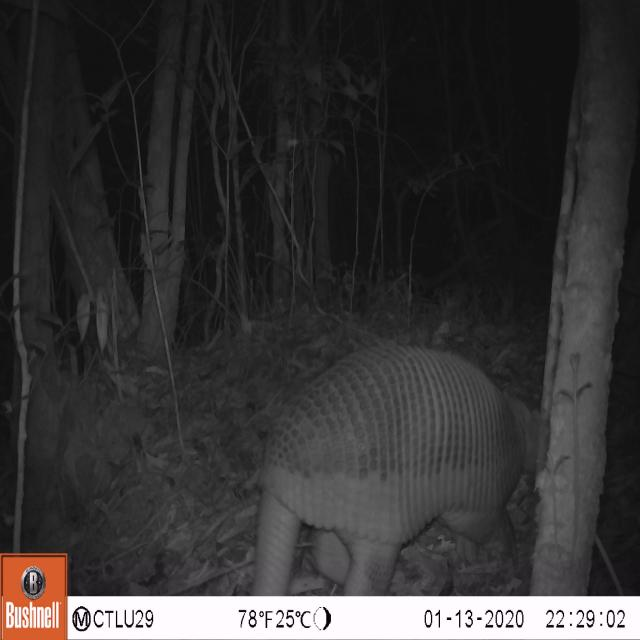Armadillo: (231, 323, 546, 594)
